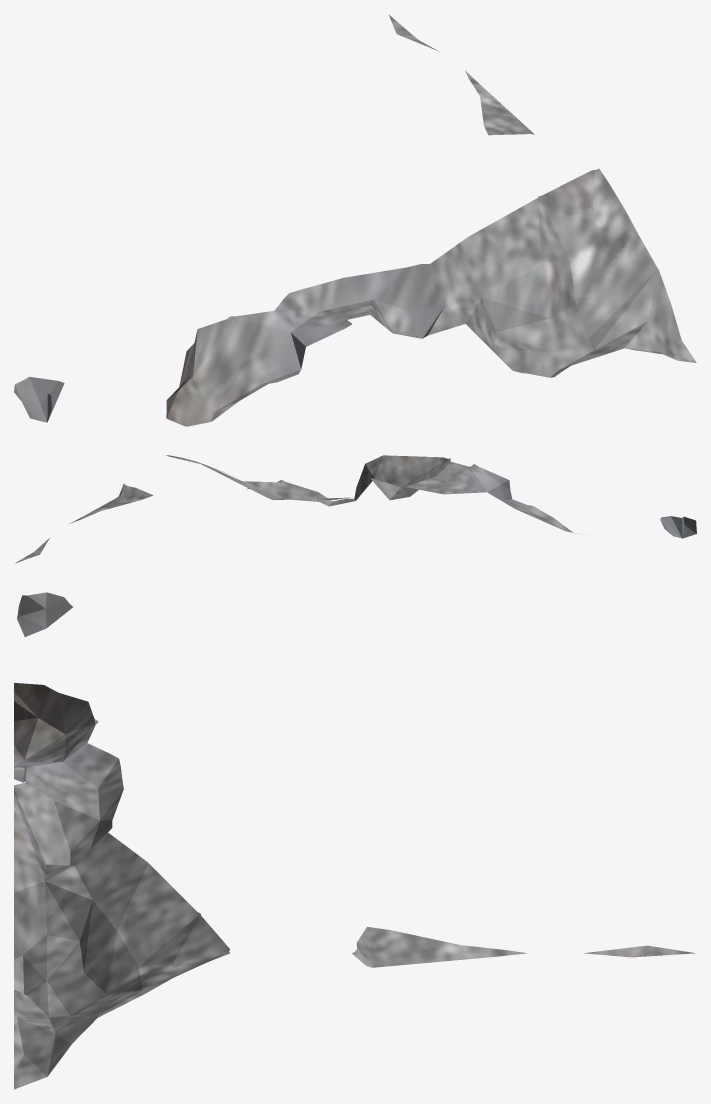
The picture shows the model from 3 angles, top to bottom: view 1: azimuth 30°, elevation 25°; view 2: azimuth 150°, elevation 25°; view 3: azimuth 270°, elevation 25°; orthographic projection. The views are drawn at different scales.
Bounding box in the file's own units: 0.8049 × 0.1418 × 0.6437.
1 material, 1 textured.
